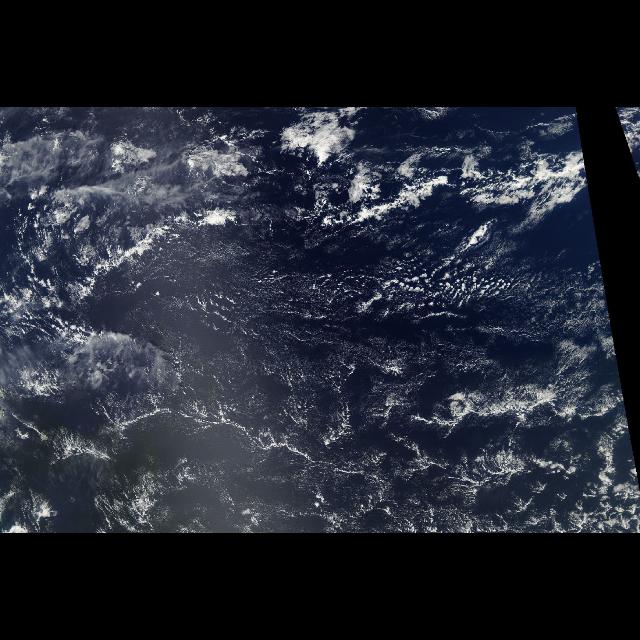Fish: (72, 372, 600, 530), (310, 156, 598, 234), (70, 204, 232, 306)
Sugar: (97, 242, 621, 530)
